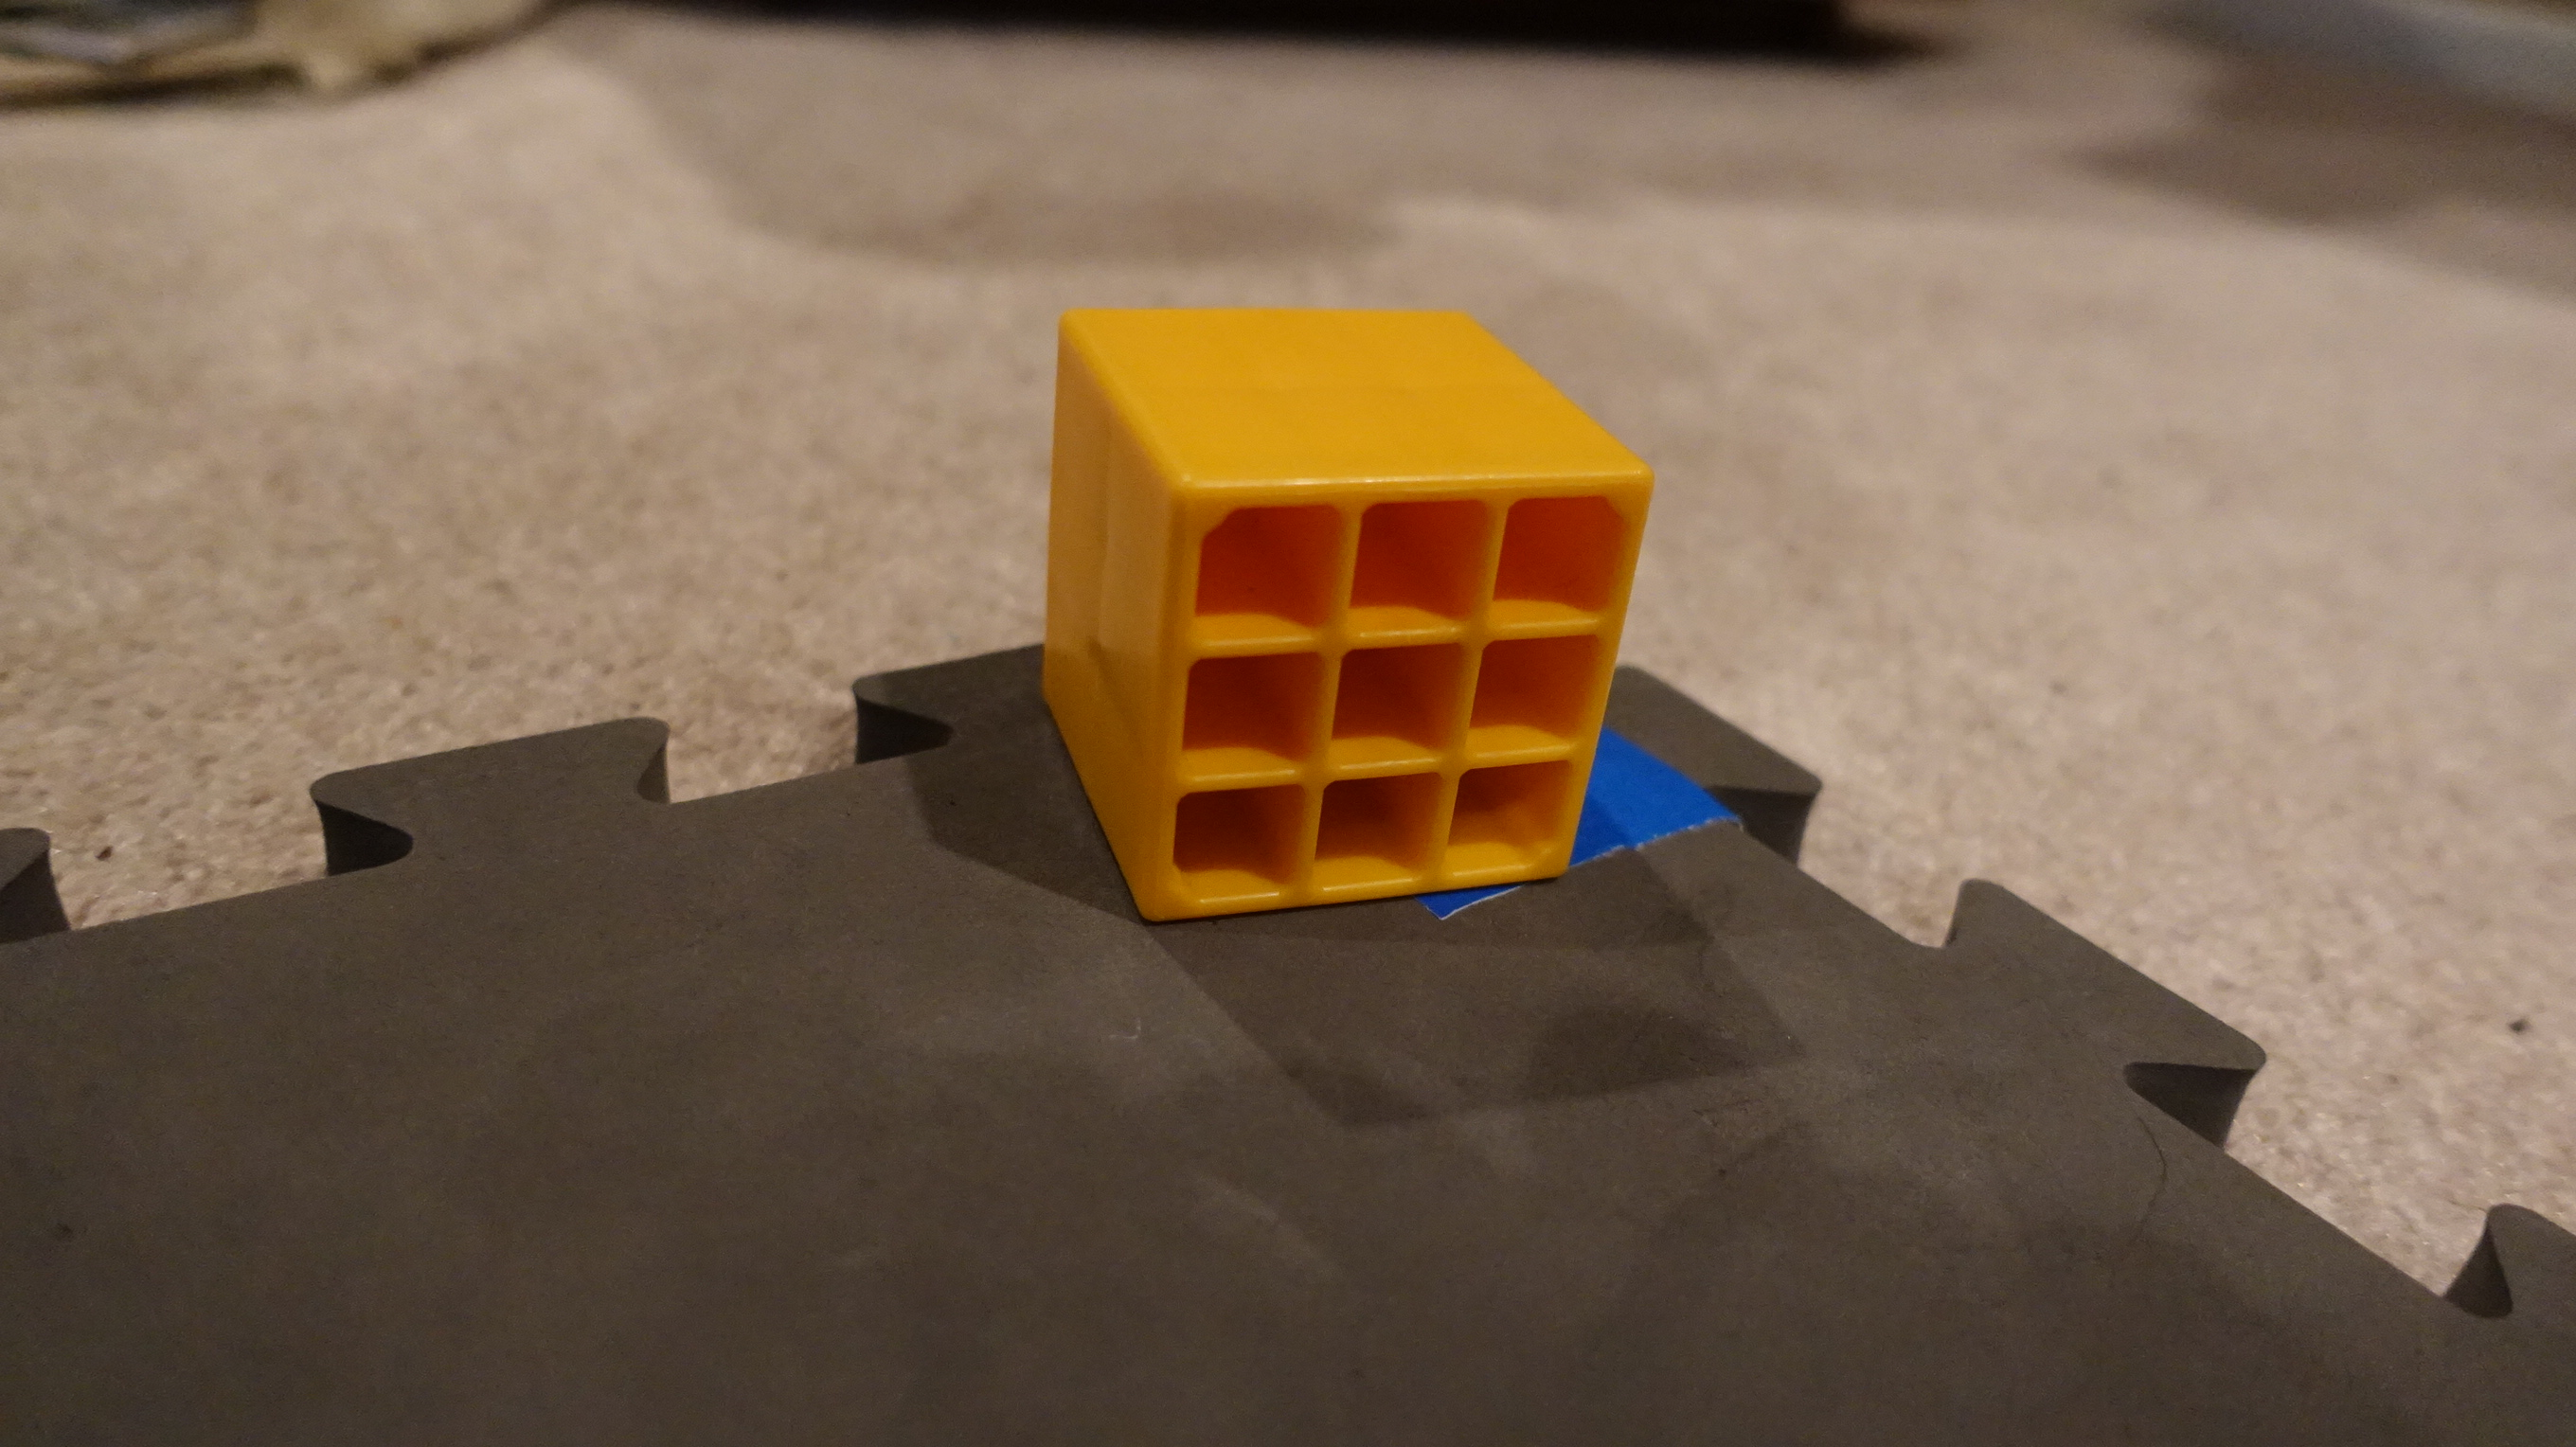gold: (1026, 292, 1667, 936)
